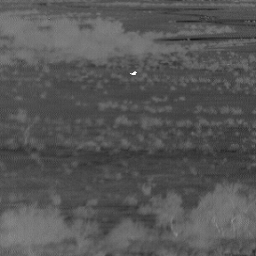Target: (128, 70, 138, 77)
